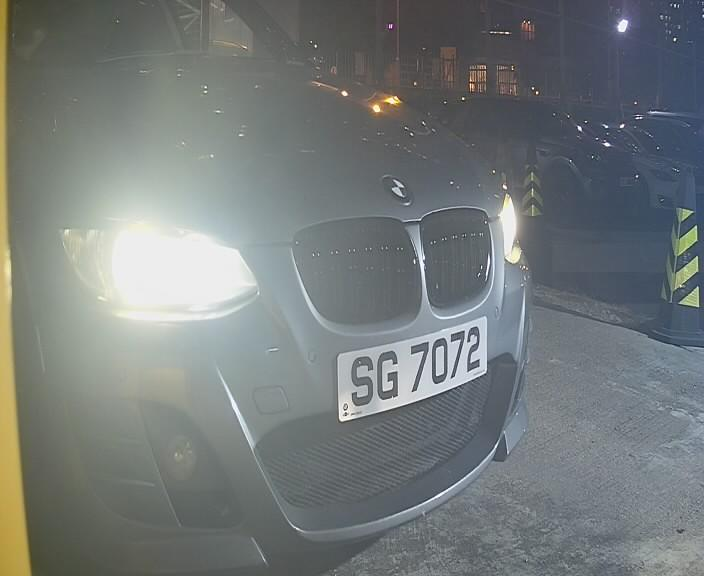Car: (4, 11, 576, 556)
License Plate: (337, 309, 491, 420)
